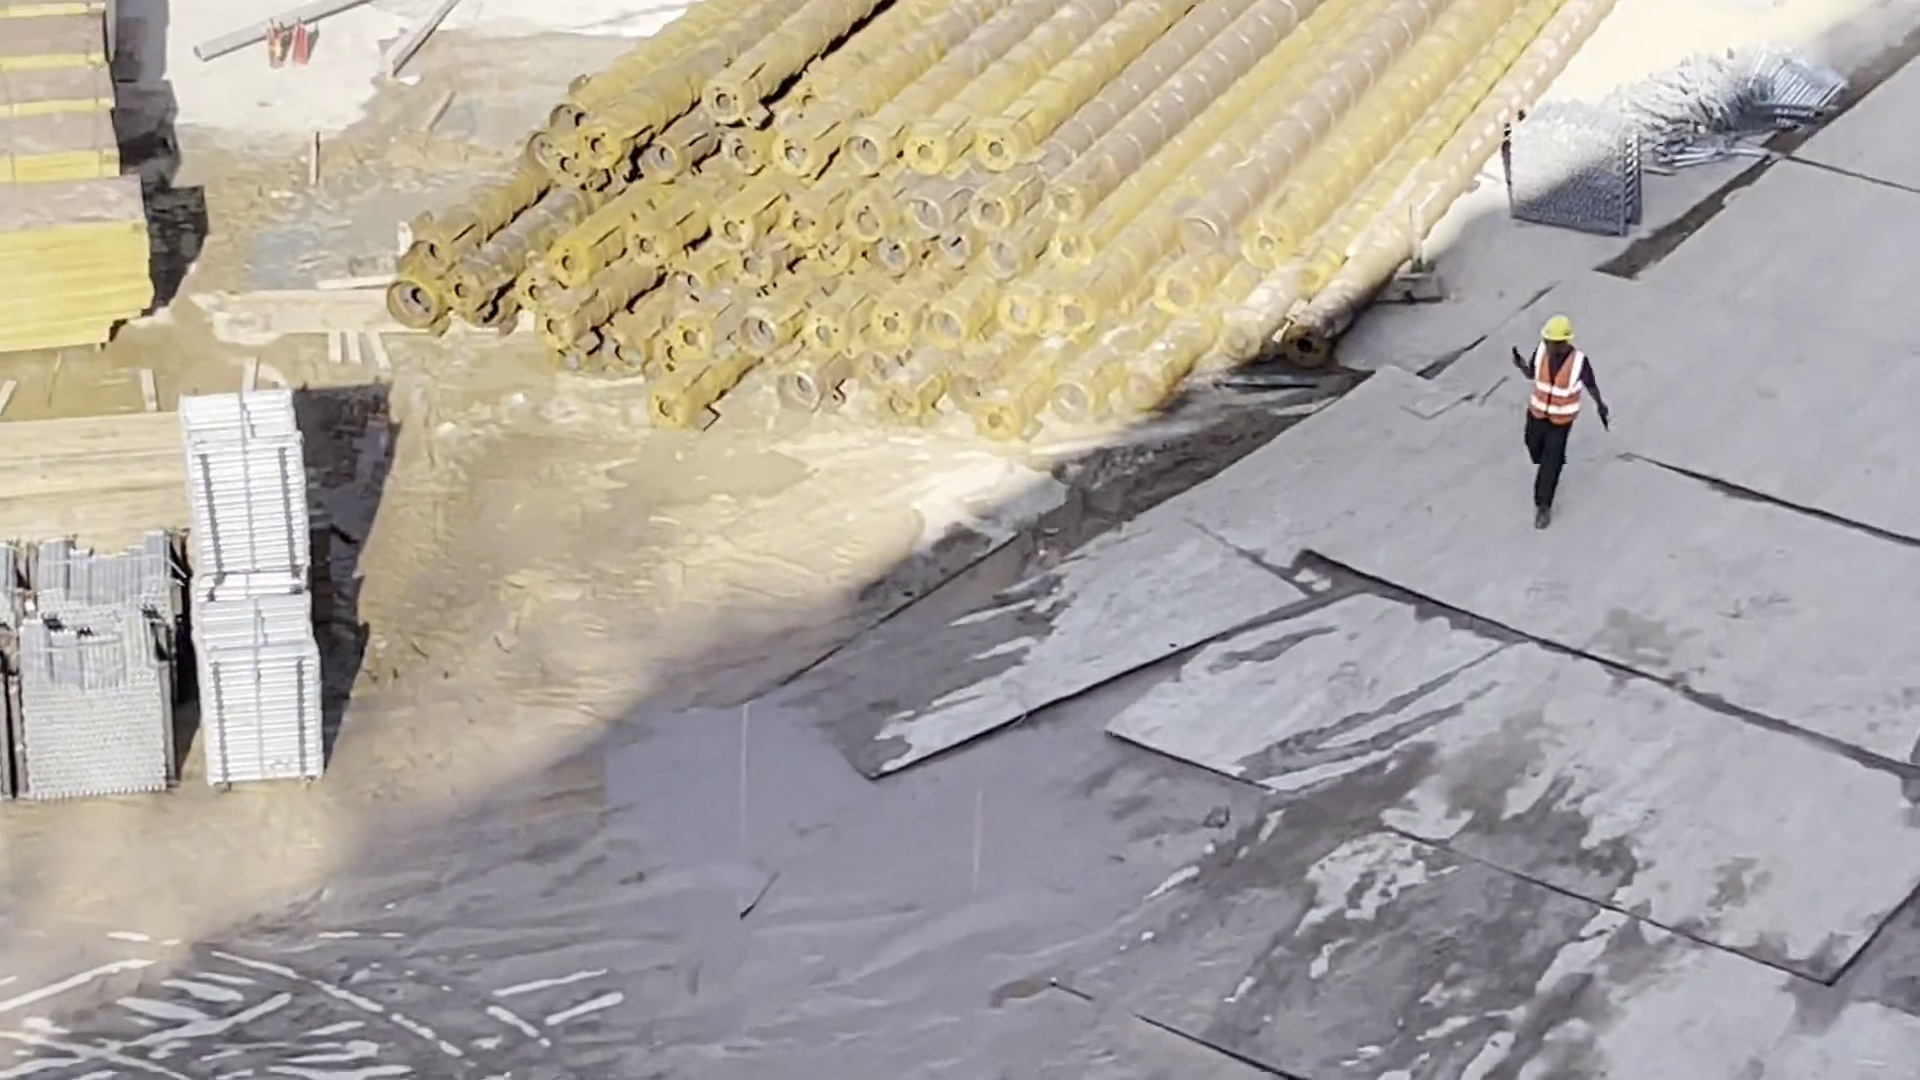board: (4, 1, 150, 349), (1, 410, 165, 528)
helmet: (1540, 314, 1577, 342)
person: (1509, 316, 1602, 534)
scaffold: (182, 399, 327, 789), (1, 549, 179, 796), (1516, 111, 1633, 235)
vest: (1528, 342, 1589, 427)
